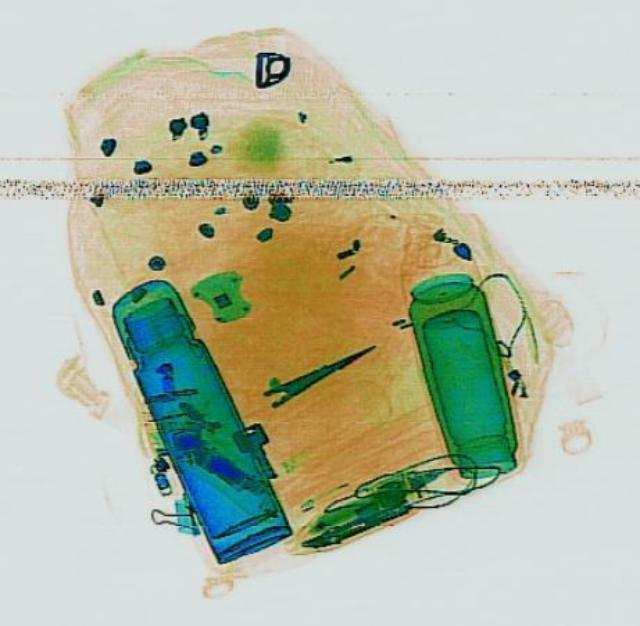Knife: (258, 332, 380, 408)
